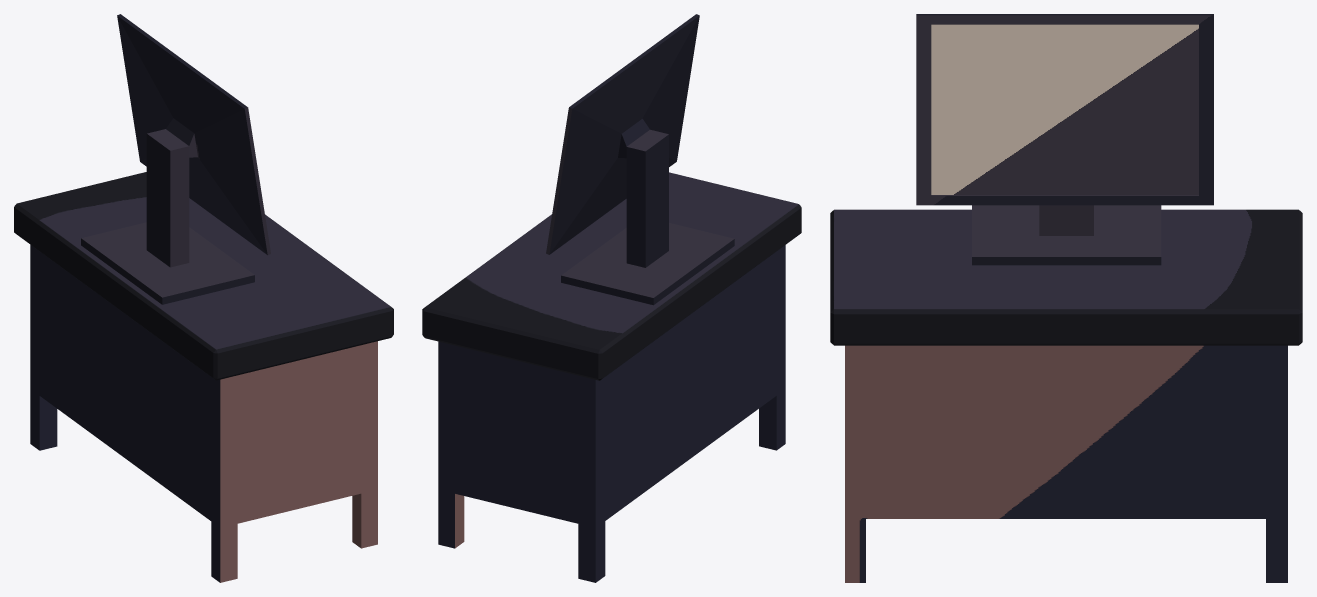
Rendered from office desk.fbx.
The picture shows the model from 3 angles, left to right: view 1: azimuth 30°, elevation 25°; view 2: azimuth 150°, elevation 25°; view 3: azimuth 270°, elevation 25°; orthographic projection. The views are drawn at different scales.
Parts seen in each view (by area): view 1: desk, office pc; view 2: desk, office pc; view 3: desk, office pc.
Part boxes in pixels (x1,y1,x2,y2): desk: [14, 172, 393, 582]; office pc: [81, 14, 270, 304]; desk: [422, 172, 801, 582]; office pc: [546, 14, 734, 305]; desk: [830, 209, 1302, 582]; office pc: [916, 14, 1213, 265].
Size of the model in its own units: 103 by 239 by 200.
Materials: 2 (2 with a texture image).
